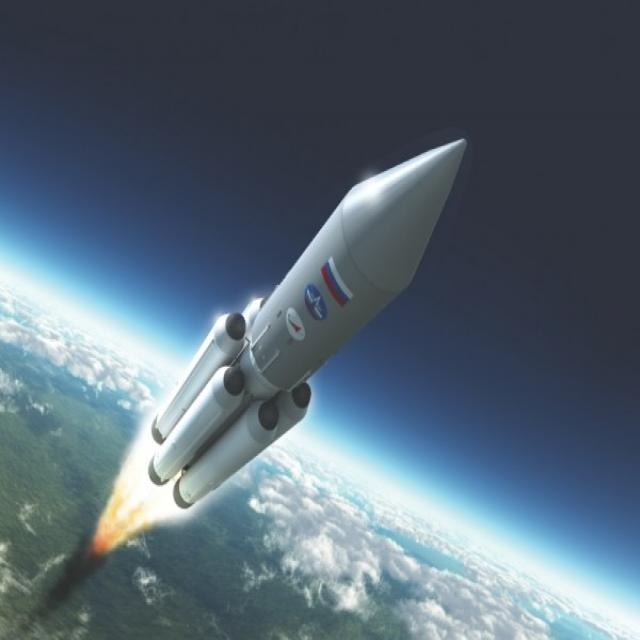rocket: (90, 136, 468, 560)
